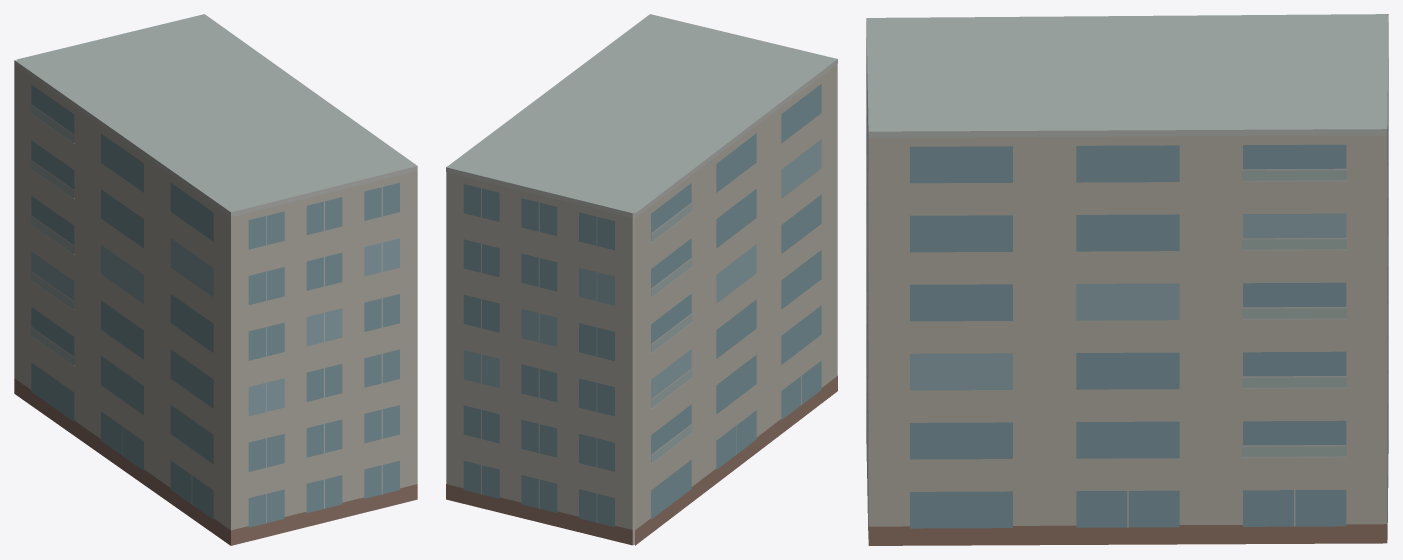
File: survey-upis-32906434.glb
The picture shows the model from 3 angles, left to right: view 1: azimuth 30°, elevation 25°; view 2: azimuth 150°, elevation 25°; view 3: azimuth 270°, elevation 25°; orthographic projection. The views are drawn at different scales.
Visible parts, largest first — view 1: survey-upis-32906434.tmp; view 2: survey-upis-32906434.tmp; view 3: survey-upis-32906434.tmp.
Part boxes in pixels (x1,y1,x2,y2): survey-upis-32906434.tmp: [14, 14, 417, 545]; survey-upis-32906434.tmp: [446, 14, 837, 545]; survey-upis-32906434.tmp: [866, 14, 1388, 545].
Size of the model in its own units: 10.19 by 16.7 by 19.09.
